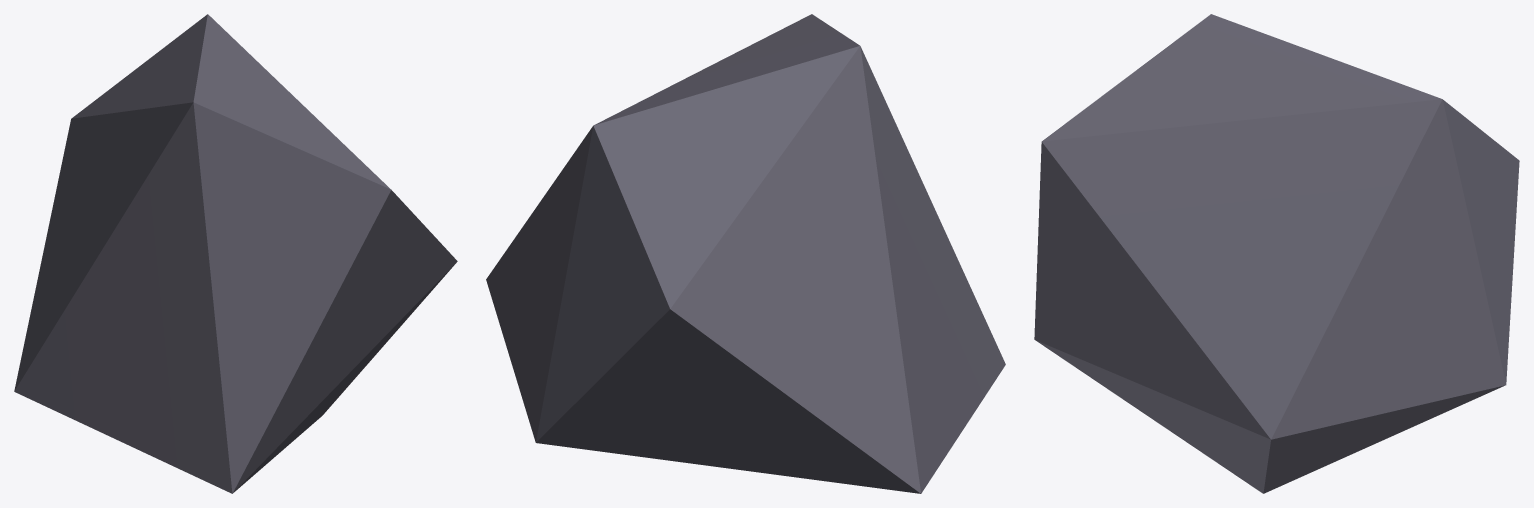
The model's file is smallrock3.fbx.
The picture shows the model from 3 angles, left to right: view 1: azimuth 30°, elevation 25°; view 2: azimuth 150°, elevation 25°; view 3: azimuth 270°, elevation 25°; orthographic projection. The views are drawn at different scales.
Parts seen in each view (by area): view 1: rock.002; view 2: rock.002; view 3: rock.002.
Part boxes in pixels (x1=…): rock.002: x1=14, y1=14, x2=457, y2=493; rock.002: x1=486, y1=14, x2=1005, y2=493; rock.002: x1=1034, y1=14, x2=1519, y2=493.
Bounding box in the file's own units: 50.23 × 43.37 × 47.8.
